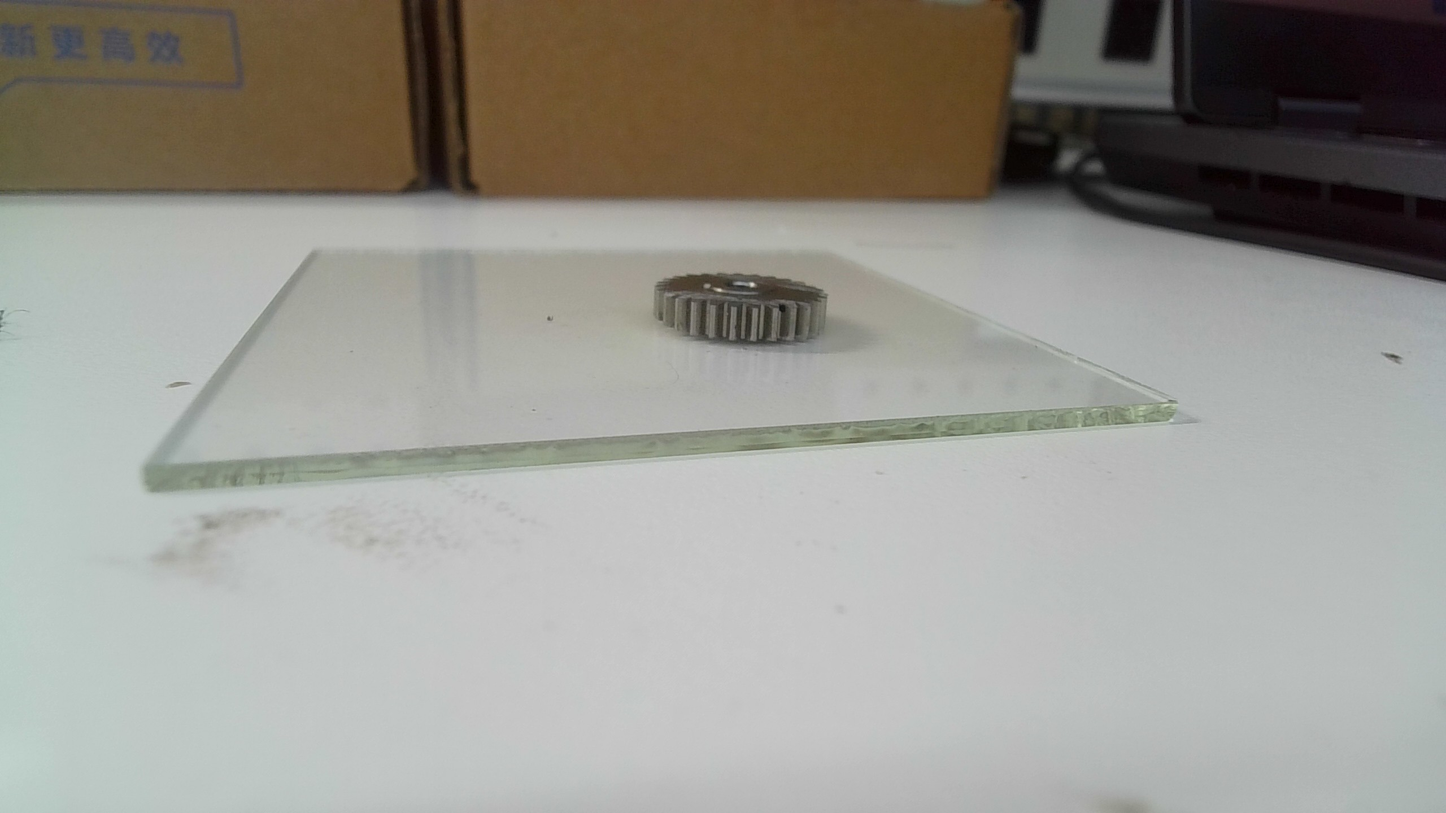gear: (652, 272, 831, 349)
